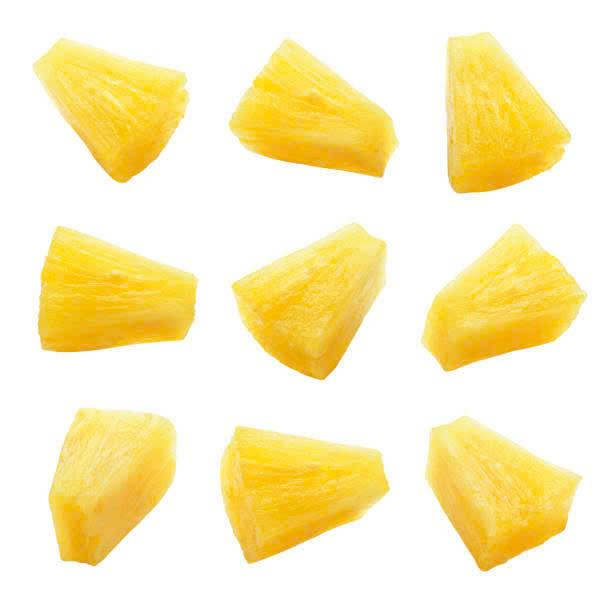pineapple: (31, 361, 196, 554), (403, 423, 598, 585), (199, 389, 395, 550), (226, 37, 411, 184), (413, 213, 574, 375), (37, 210, 192, 369), (51, 21, 199, 180), (253, 203, 391, 372), (447, 26, 564, 202)
